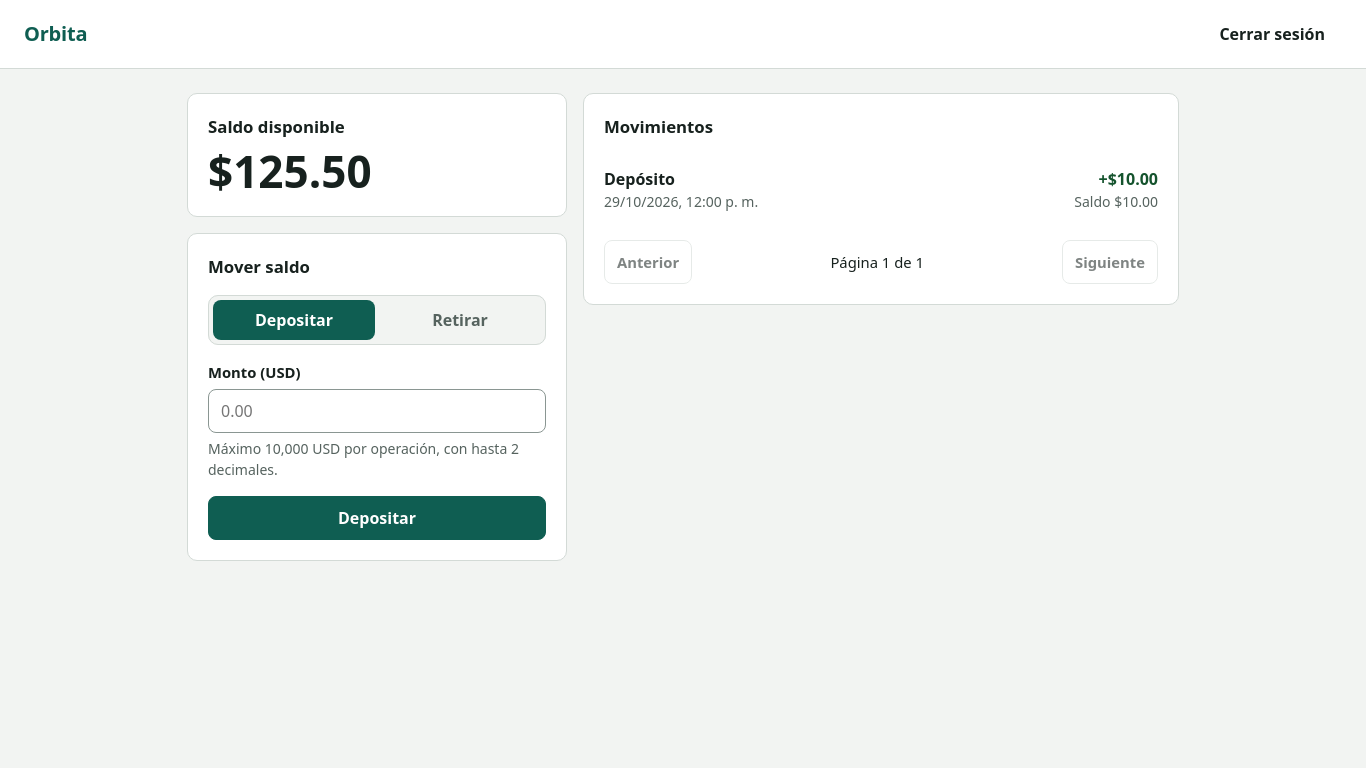
depósitos y retiros › reutiliza la Idempotency-Key al reintentar tras un fallo de red
expect the text "$125.50" is shown: met, box [208,141,372,201]
In the field labelled "Monto (USD)": (377,410) [208,388,546,432], type "20"
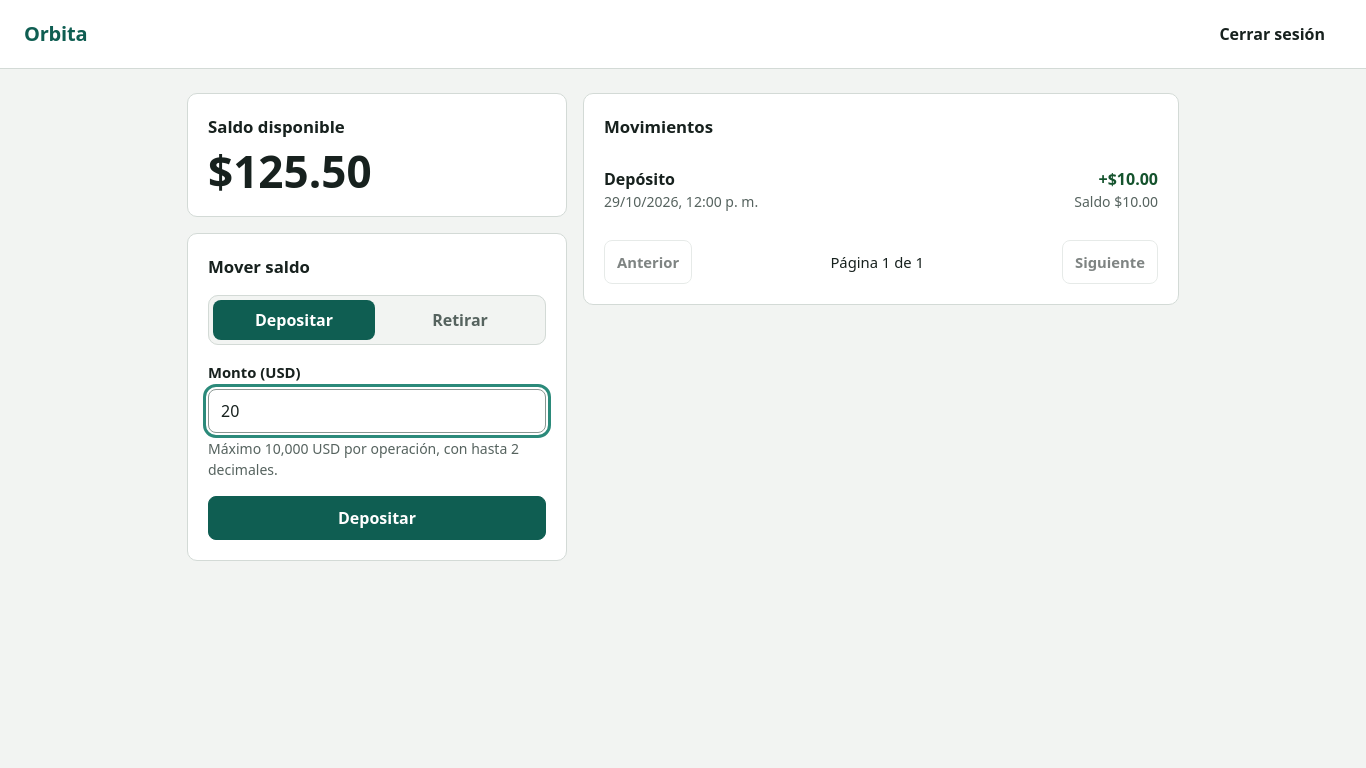
Click the button "Depositar": (377,518) [208,496,546,540]
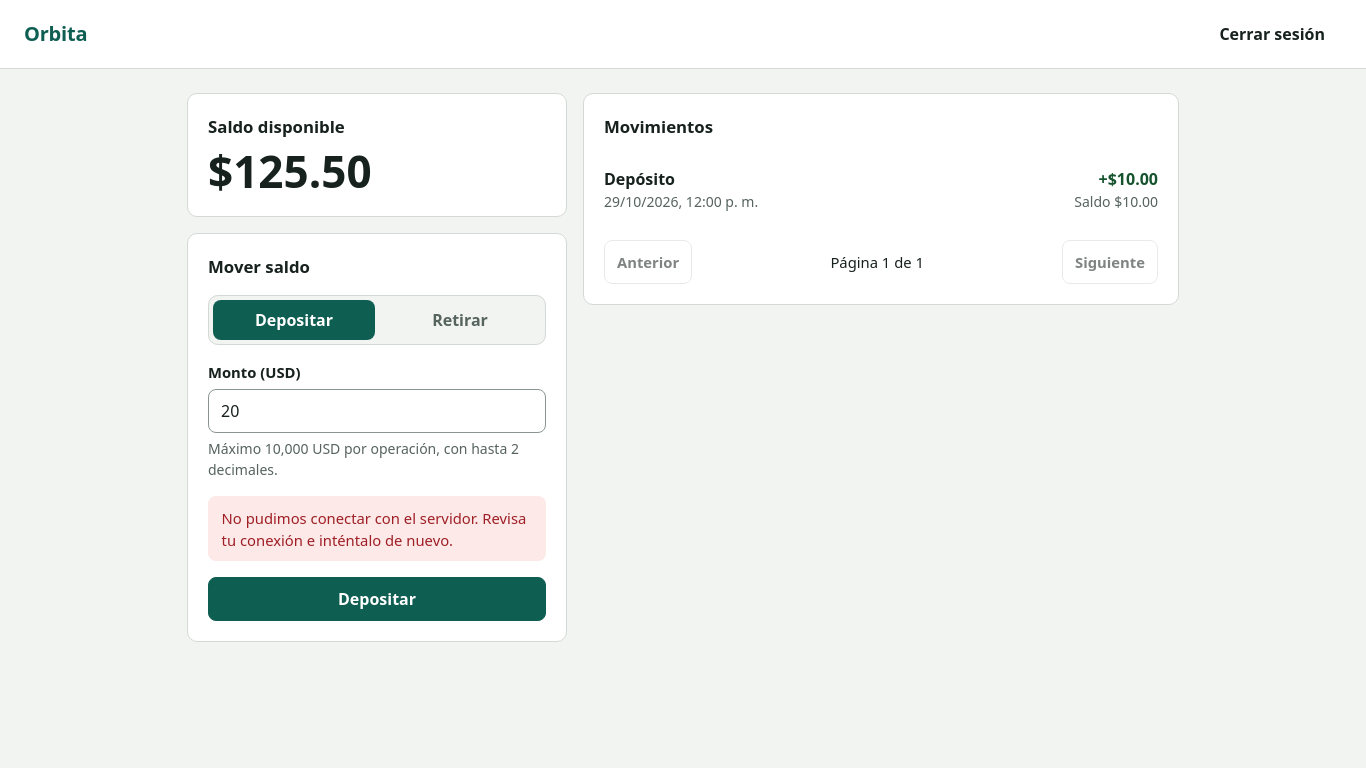
expect the message shows "No pudimos conectar": met, box [222,508,526,550]
Click the button "Depositar": (377,599) [208,577,546,621]
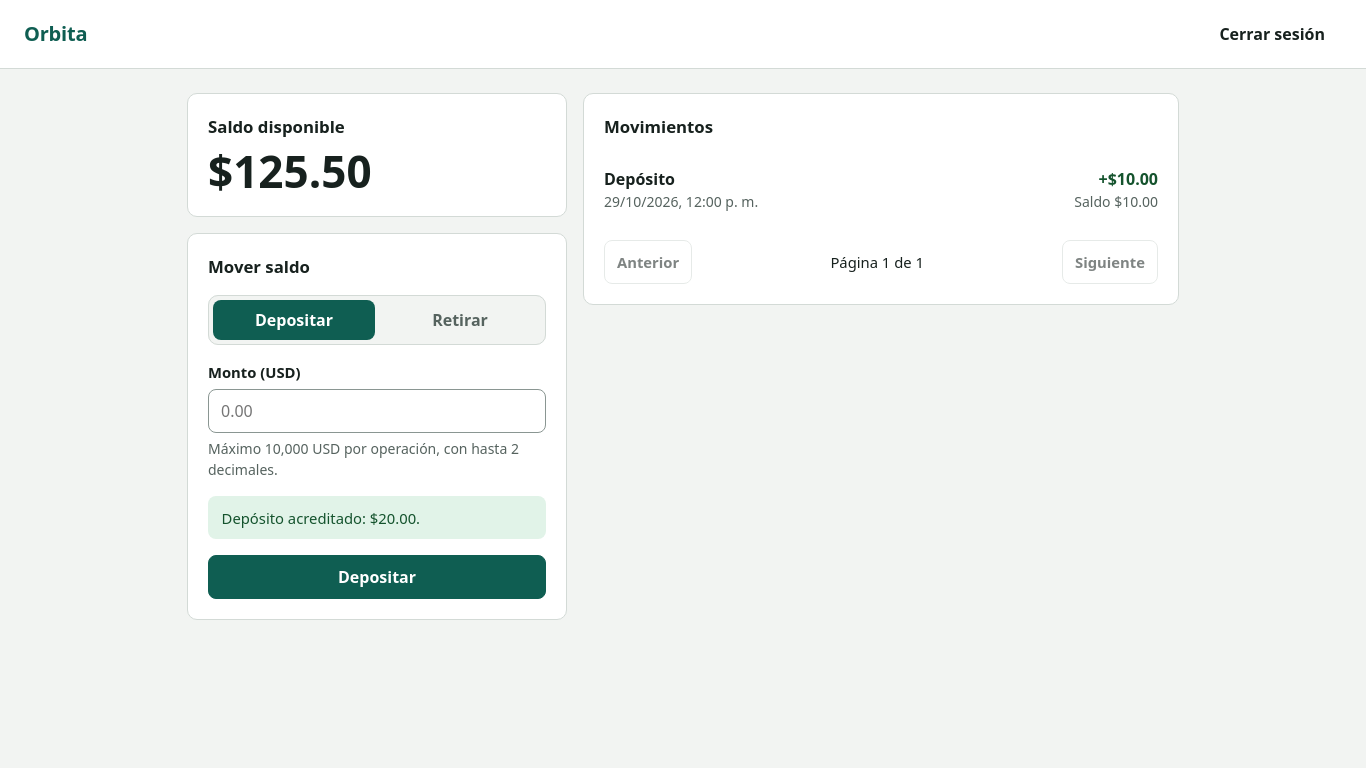
expect the text "Depósito acreditado: $20.00." is shown: met, box [208,496,546,539]
